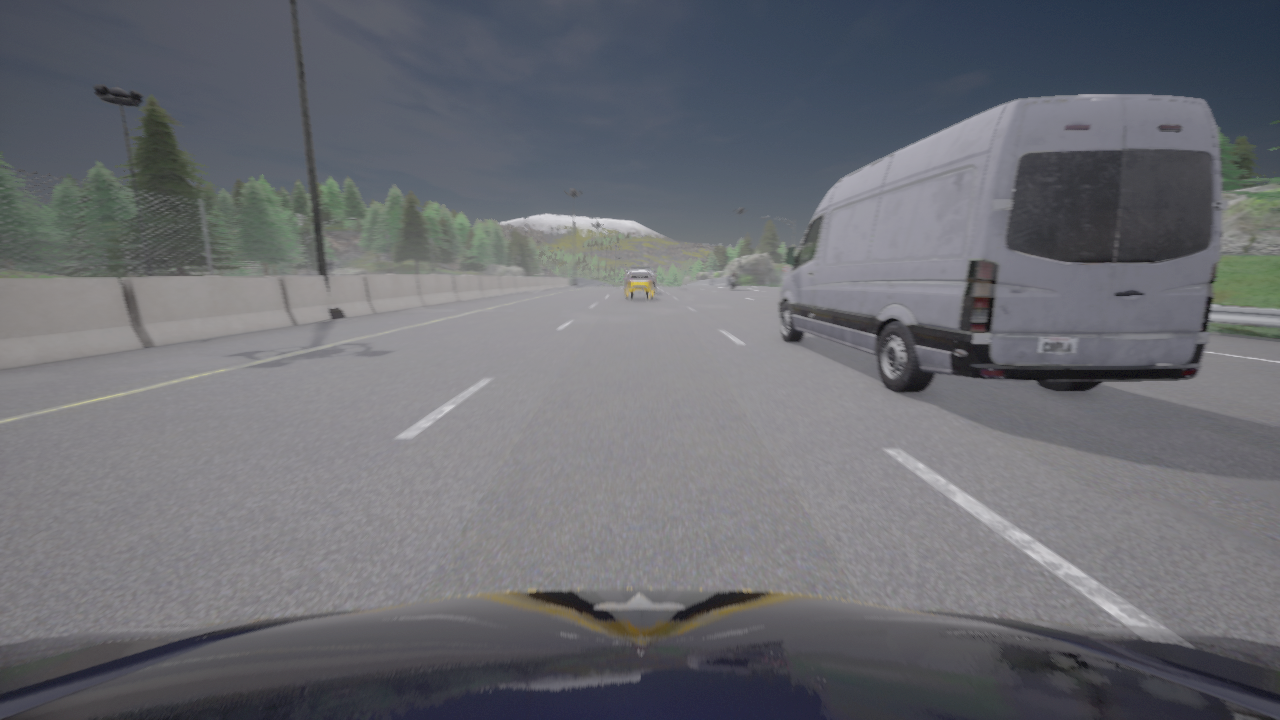cyclist: (0, 588, 1279, 719), (778, 95, 1228, 392), (625, 270, 654, 299), (625, 267, 656, 293), (730, 275, 736, 289)
